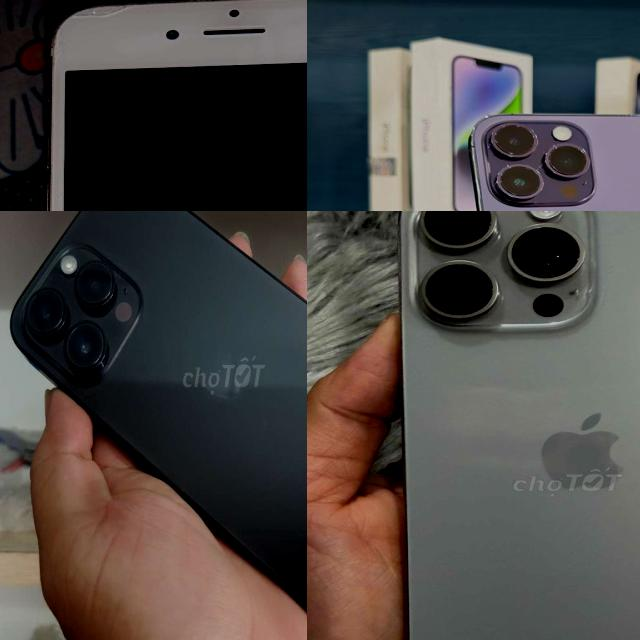gen_14: (0, 211, 307, 640), (467, 104, 640, 211)
gen_15: (384, 211, 640, 640)
gen_6: (39, 0, 307, 211)
